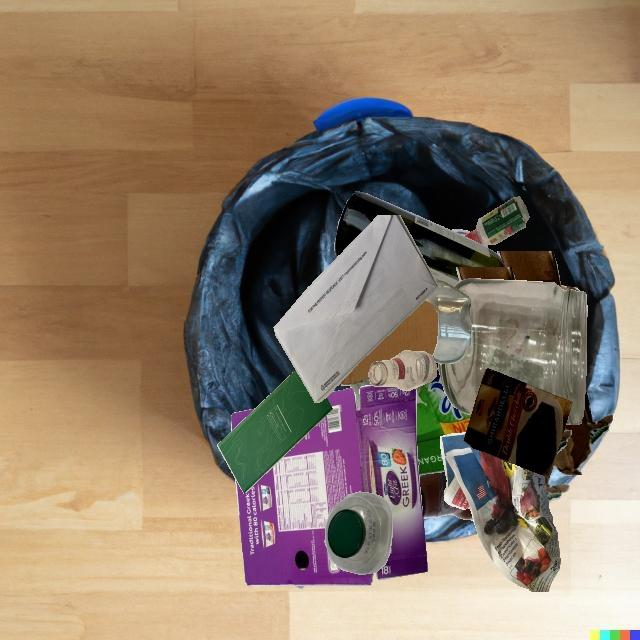cardboard: (235, 385, 428, 586), (449, 278, 563, 432), (464, 368, 572, 478), (341, 300, 438, 389), (553, 391, 613, 476), (360, 389, 417, 446), (497, 251, 561, 288), (416, 362, 449, 408), (456, 267, 515, 281), (417, 446, 445, 475), (544, 476, 570, 502), (447, 408, 471, 435)
glass: (438, 278, 587, 425), (334, 191, 506, 287), (425, 279, 471, 364), (368, 350, 437, 390), (419, 471, 473, 520)
paper: (274, 215, 438, 403), (440, 432, 560, 592), (217, 370, 333, 493), (468, 519, 474, 521)
plastic: (324, 492, 393, 575), (464, 196, 530, 245), (451, 229, 470, 236), (295, 586, 305, 589)
